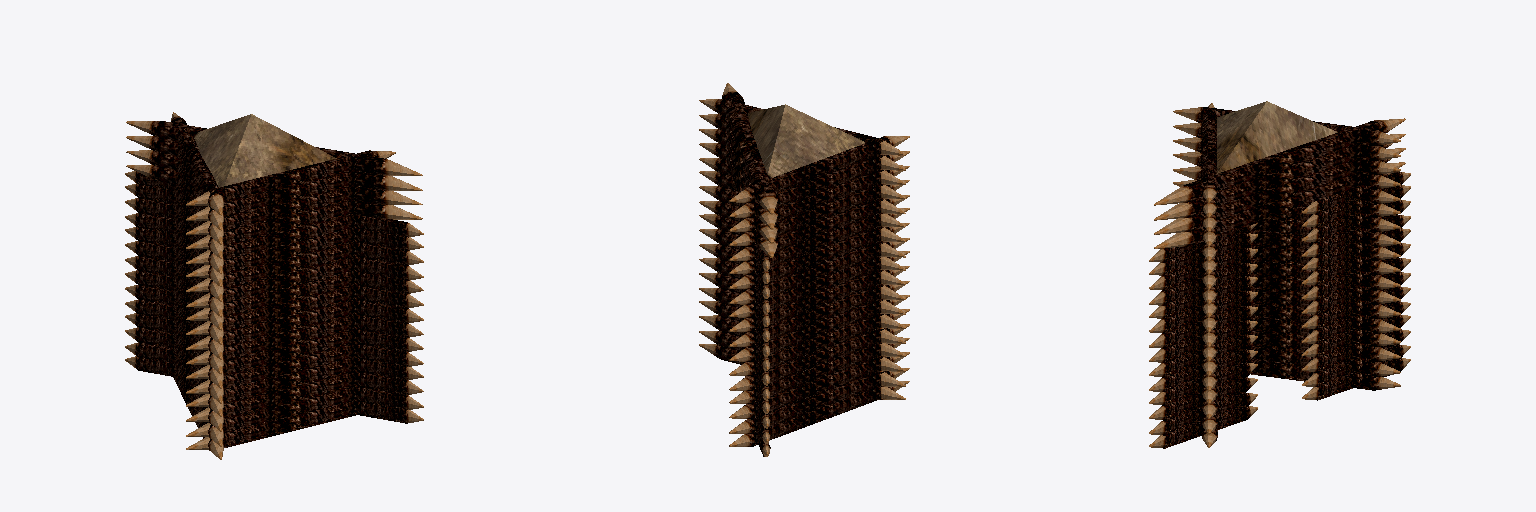
3 renders of one model, left to right at view 1: azimuth 30°, elevation 25°; view 2: azimuth 150°, elevation 25°; view 3: azimuth 270°, elevation 25°, orthographic.
Parts seen in each view (by area): view 1: Plane; view 2: Plane; view 3: Plane.
Boxes of the visible parts, box(x1,y1,x2,y2) form: Plane: box(125, 112, 423, 459); Plane: box(699, 83, 909, 456); Plane: box(1149, 101, 1410, 448).
Bounding box in the file's own units: 0.196 × 0.2691 × 0.2142.
2 materials, 2 textured.